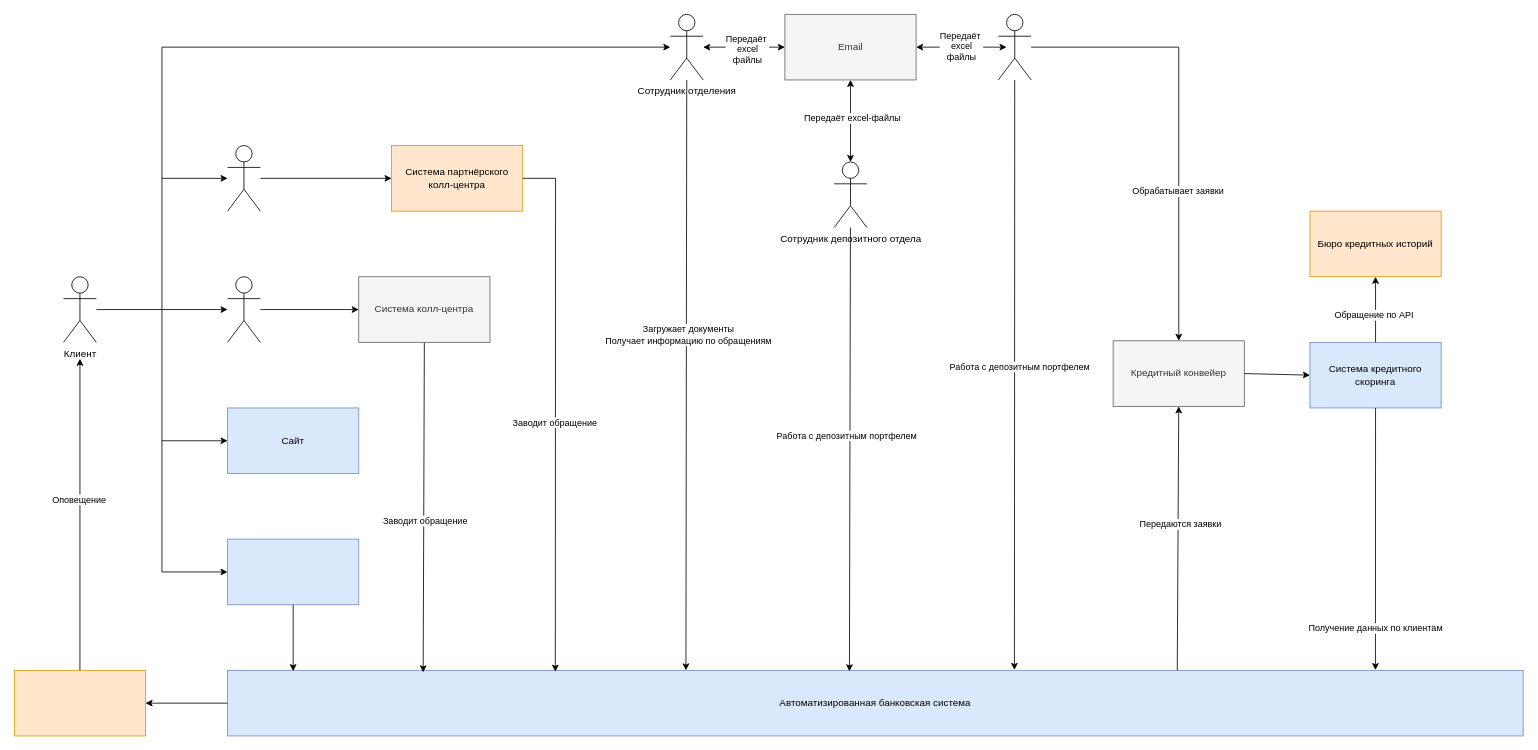
This 1538x750 diagram has some shape labels left out. Each missing label, with the box of its shape:
Интернет-банк: (227, 538, 359, 605)
СМС-шлюз: (14, 670, 146, 736)
Сотрудник колл-центра: (227, 276, 260, 342)
Сотрудник кредитного отдела: (998, 14, 1031, 80)
Сотрудник партнёрского колл-центра: (227, 145, 260, 211)
